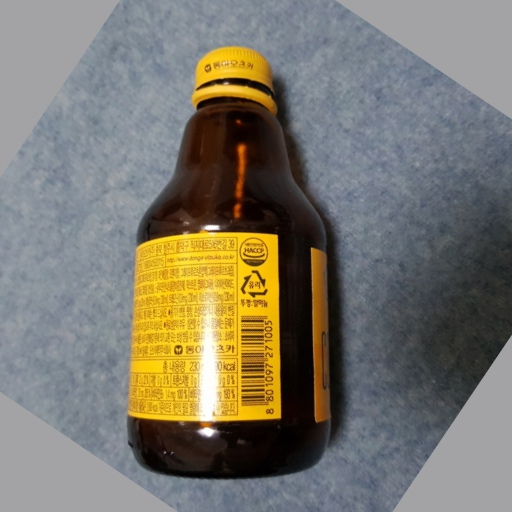Glass_3: (122, 45, 334, 480)
